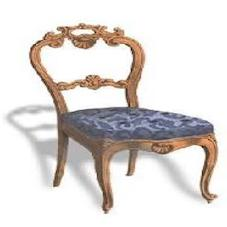chair: (23, 13, 220, 212)
